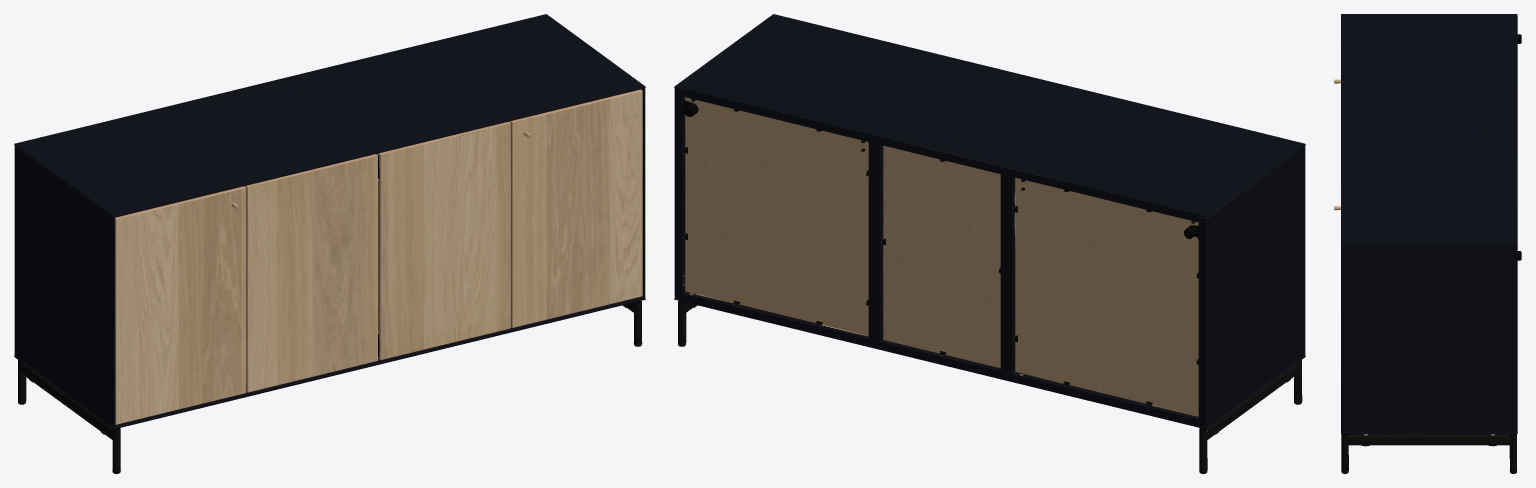
3 renders of one model, left to right at view 1: azimuth 30°, elevation 25°; view 2: azimuth 150°, elevation 25°; view 3: azimuth 270°, elevation 25°, orthographic. The views are drawn at different scales.
Parts seen in each view (by area): view 1: ASY_ART_30507012_S01_NV01; view 2: ASY_ART_30507012_S01_NV01; view 3: ASY_ART_30507012_S01_NV01.
Part boxes in pixels (x1,y1,x2,y2): ASY_ART_30507012_S01_NV01: [14, 14, 645, 473]; ASY_ART_30507012_S01_NV01: [674, 14, 1305, 473]; ASY_ART_30507012_S01_NV01: [1334, 14, 1521, 473].
Bounding box in the file's own units: 1.61 × 0.751 × 0.5529.
Materials: 2 (2 with a texture image).
